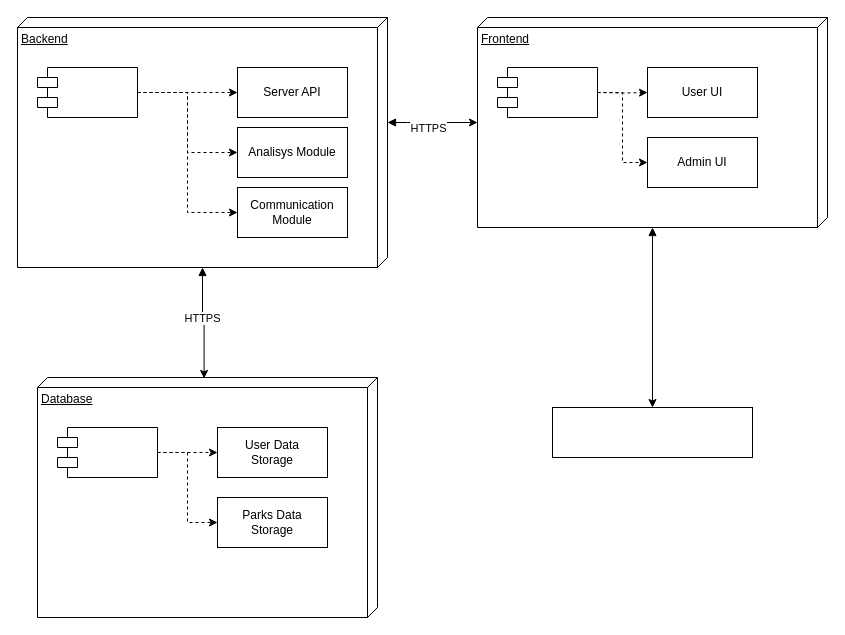
Image size: 845x635. Some labels were removed from this diagram. Here are the shapes that lost their labels. From the top down, the centre of each, then its label:
the point at 87,92: NodeJs
the point at 547,92: React
the point at 107,452: MySQL
the point at 652,432: External Devices
